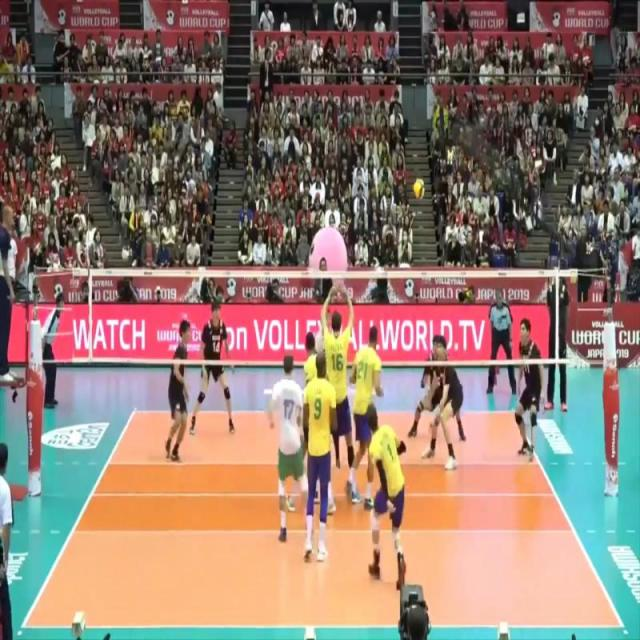volleyball: (409, 172, 428, 205)
